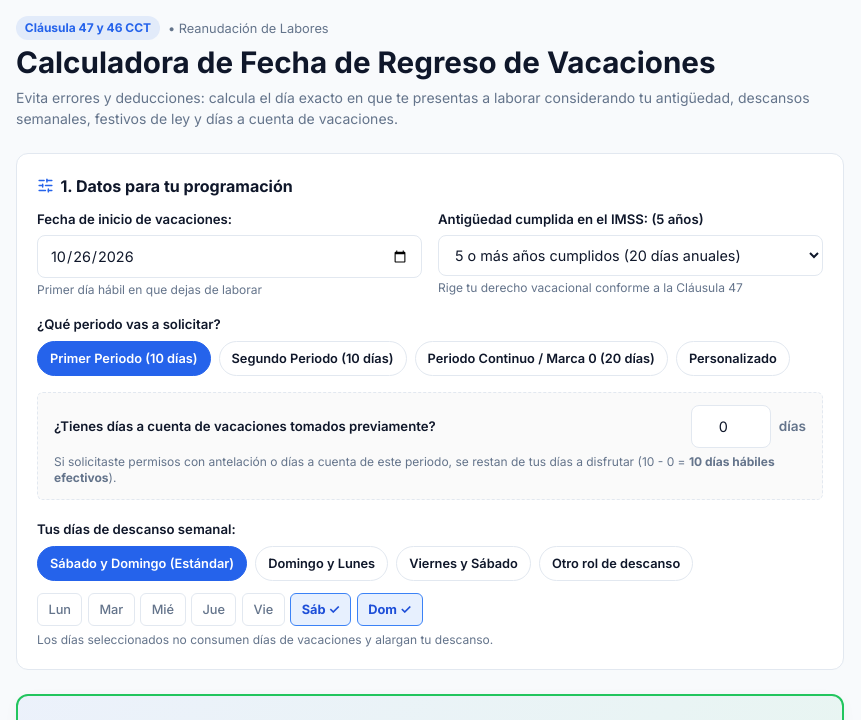
Test: VacationReturnCalculator Component › permite modificar días a cuenta de vacaciones y actualiza los días hábiles
Note: El input numérico de días a cuenta
Replace the text in the number field with "3": (731,427) left=691, top=405, right=771, bottom=448
(page scrolled)
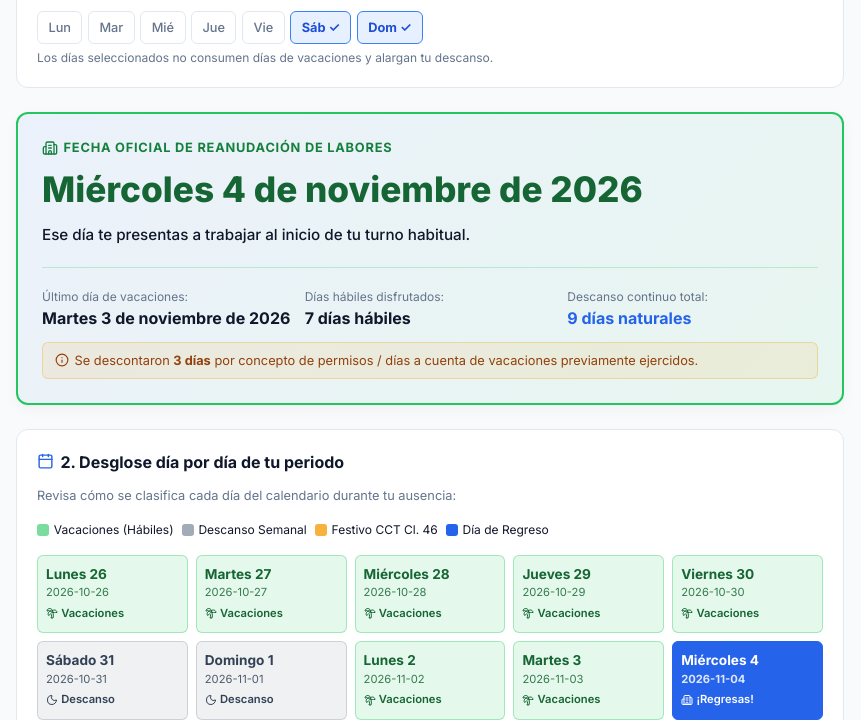
Now the text "Se descontaron" is shown, box left=75, top=352, right=173, bottom=368
